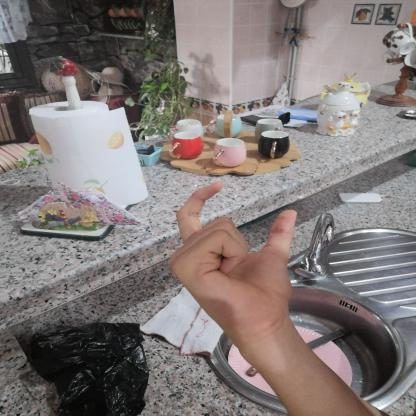NOON: (150, 172, 308, 350)
